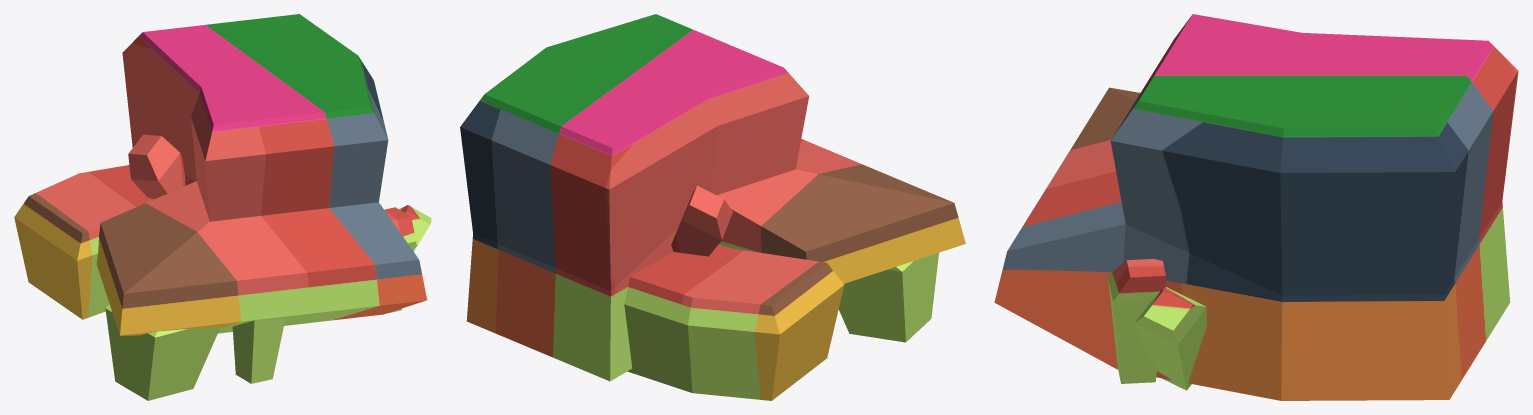
Rendered from rock_5.fbx.
The picture shows the model from 3 angles, left to right: view 1: azimuth 30°, elevation 25°; view 2: azimuth 150°, elevation 25°; view 3: azimuth 270°, elevation 25°; orthographic projection. The views are drawn at different scales.
Parts seen in each view (by area): view 1: rock_5; view 2: rock_5; view 3: rock_5.
Boxes of the visible parts, x1,y1,x2,y2 form: rock_5: [14, 14, 431, 400]; rock_5: [460, 14, 965, 400]; rock_5: [994, 14, 1518, 400].
Size of the model in its own units: 179 by 115 by 183.
